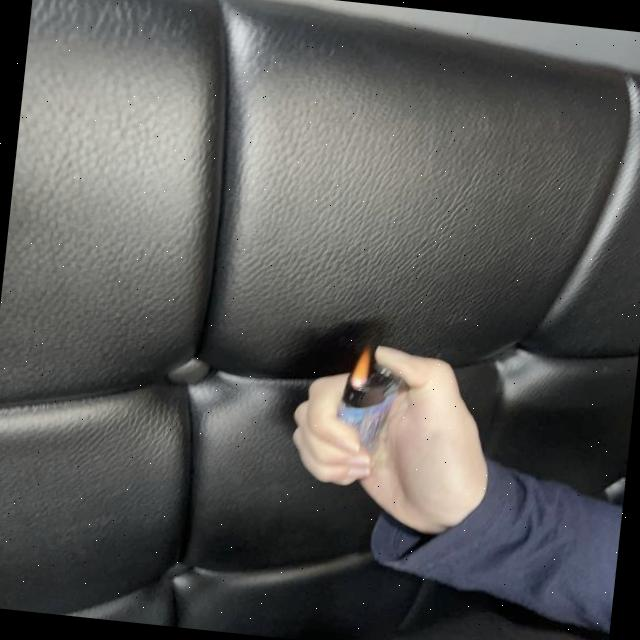fire: (352, 352, 372, 389)
